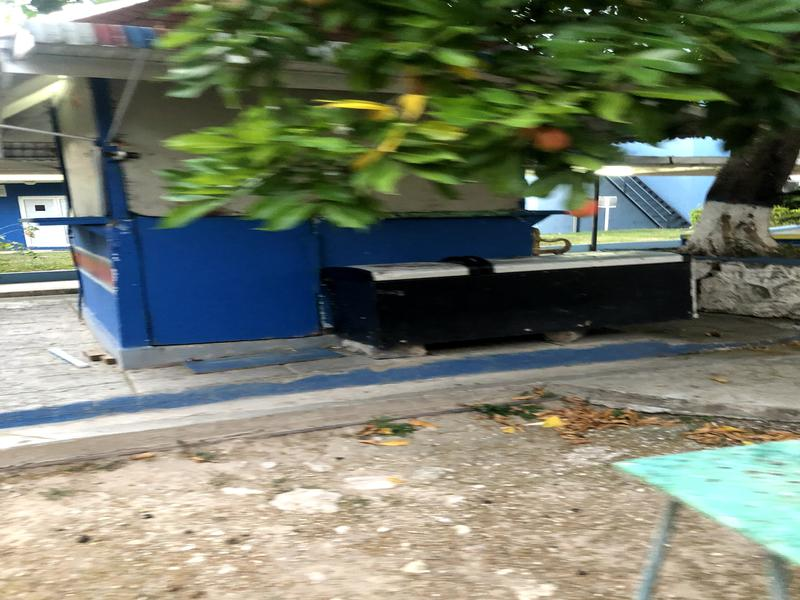18.0050609_-76.7496662_auntyjackie: (9, 3, 553, 357)
